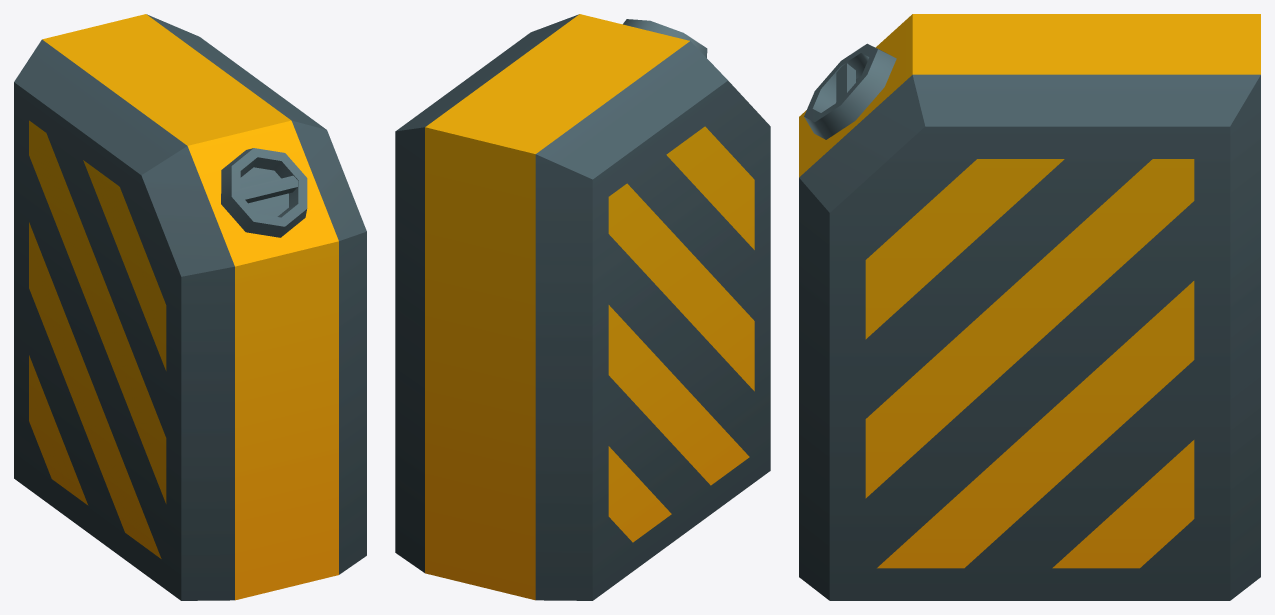
File: Gas_can_008.fbx
3 views of the same model, side by side, from view 1: azimuth 30°, elevation 25°; view 2: azimuth 150°, elevation 25°; view 3: azimuth 270°, elevation 25° (orthographic). The views are drawn at different scales.
Parts seen in each view (by area): view 1: Gas_can_008; view 2: Gas_can_008; view 3: Gas_can_008.
Part boxes in pixels (left/top/right/bottom): Gas_can_008: left=14, top=14, right=366, bottom=600; Gas_can_008: left=395, top=14, right=770, bottom=600; Gas_can_008: left=799, top=14, right=1260, bottom=600.
Bounding box in the file's own units: 25 × 45 × 54.
